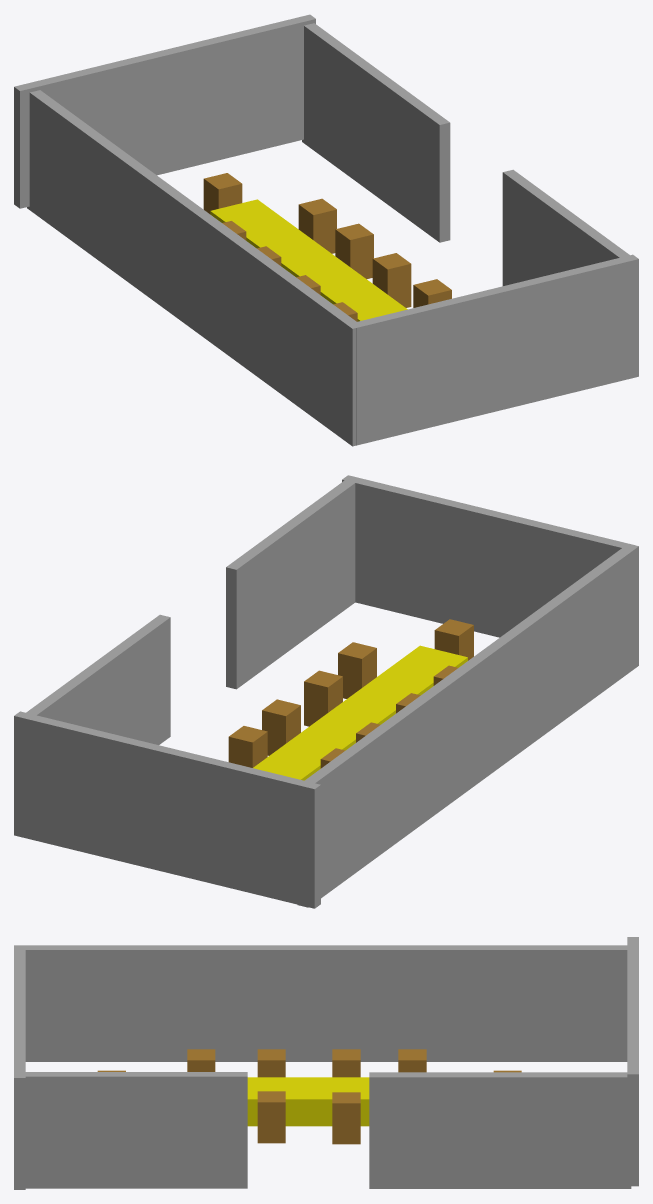
The model's file is Dining_Room.fbx.
3 renders of one model, top to bottom at view 1: azimuth 30°, elevation 25°; view 2: azimuth 150°, elevation 25°; view 3: azimuth 270°, elevation 25°, orthographic. The views are drawn at different scales.
Parts seen in each view (by area): view 1: wall5, wall2, wall3, wall1, wall4, table, chair2, chair1, chair8, chair12, chair10; view 2: wall5, wall3, wall2, wall4, wall1, table, chair10, chair1, chair2, chair8, chair11; view 3: wall5, wall1, wall4, table, wall3, wall2, chair2, chair1, chair3, chair4, chair7, chair9.
Boxes of the visible parts, <box> form: wall5: <box>27,90,360,446</box>; wall2: <box>352,254,638,445</box>; wall3: <box>14,14,315,208</box>; wall1: <box>302,23,450,242</box>; wall4: <box>502,169,633,285</box>; table: <box>210,199,407,321</box>; chair2: <box>335,223,373,278</box>; chair1: <box>372,253,411,307</box>; chair8: <box>298,198,336,253</box>; chair12: <box>203,173,242,213</box>; chair10: <box>413,279,451,307</box>; wall5: <box>298,544,638,907</box>; wall3: <box>14,711,320,908</box>; wall2: <box>342,475,634,637</box>; wall4: <box>226,477,358,689</box>; wall1: <box>26,614,170,744</box>; table: <box>253,645,467,780</box>; chair10: <box>338,642,376,698</box>; chair1: <box>304,670,342,726</box>; chair2: <box>262,699,300,755</box>; chair8: <box>228,726,267,767</box>; chair11: <box>434,619,473,660</box>; wall5: <box>14,945,627,1061</box>; wall1: <box>369,1072,631,1188</box>; wall4: <box>17,1072,247,1188</box>; table: <box>247,1077,369,1126</box>; wall3: <box>627,937,638,1186</box>; wall2: <box>14,947,25,1189</box>; chair2: <box>332,1092,360,1144</box>; chair1: <box>257,1091,285,1143</box>; chair3: <box>332,1049,360,1077</box>; chair4: <box>257,1049,285,1077</box>; chair7: <box>398,1049,426,1072</box>; chair9: <box>187,1049,215,1071</box>.
Size of the model in its own units: 5.27 by 2.07 by 10.14.
